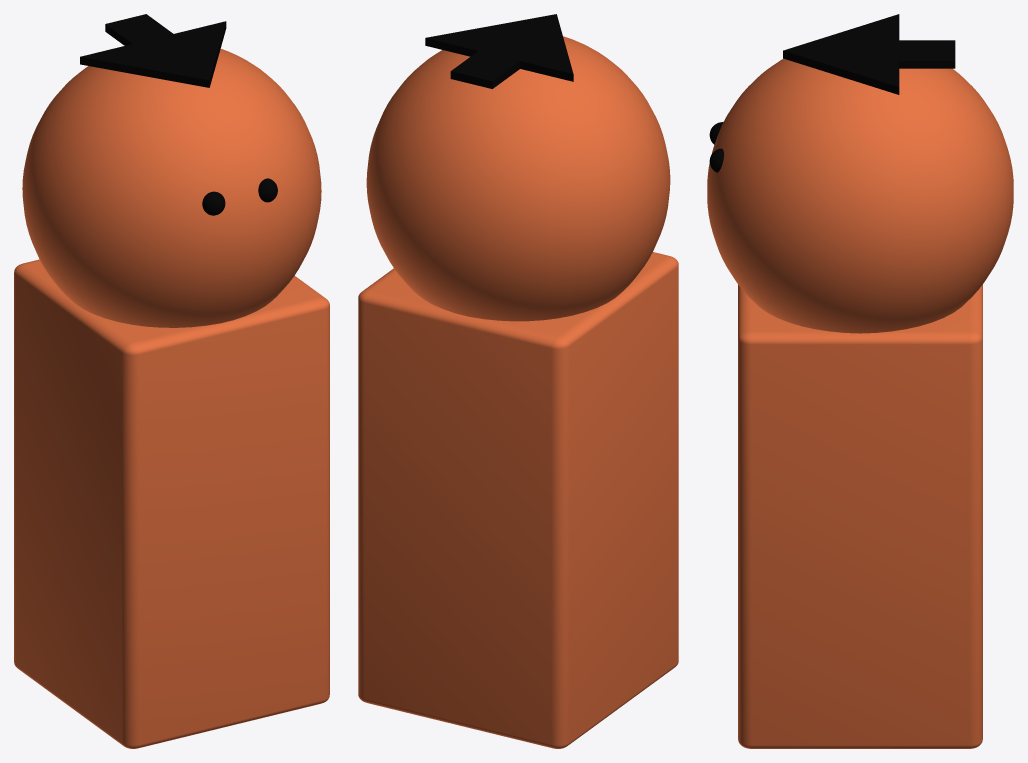
Rendered from 6beige.obj.
3 views of the same model, side by side, from view 1: azimuth 30°, elevation 25°; view 2: azimuth 150°, elevation 25°; view 3: azimuth 270°, elevation 25° (orthographic). The views are drawn at different scales.
Parts seen in each view (by area): view 1: Curve.004_Curve.007; view 2: Curve.004_Curve.007; view 3: Curve.004_Curve.007.
Boxes of the visible parts, x1,y1,x2,y2 form: Curve.004_Curve.007: (14,14,329,748); Curve.004_Curve.007: (358,14,678,748); Curve.004_Curve.007: (707,14,1013,748).
Size of the model in its own units: 0.2062 by 0.4815 by 0.2057.
